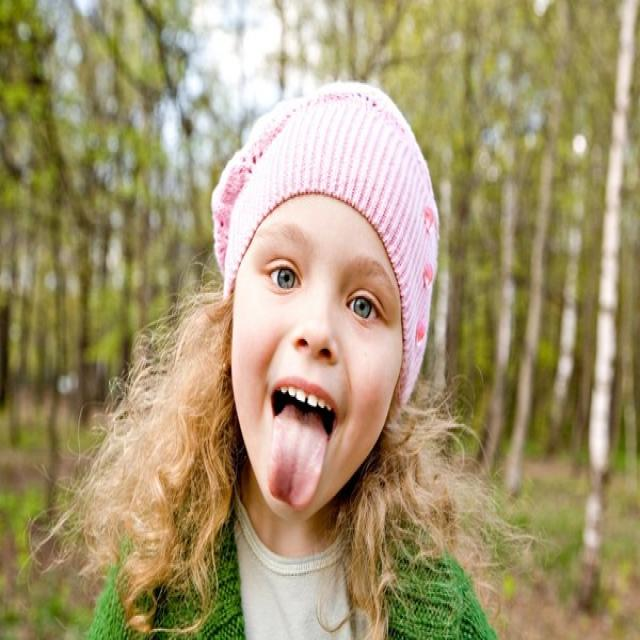tongue: (264, 406, 329, 519)
